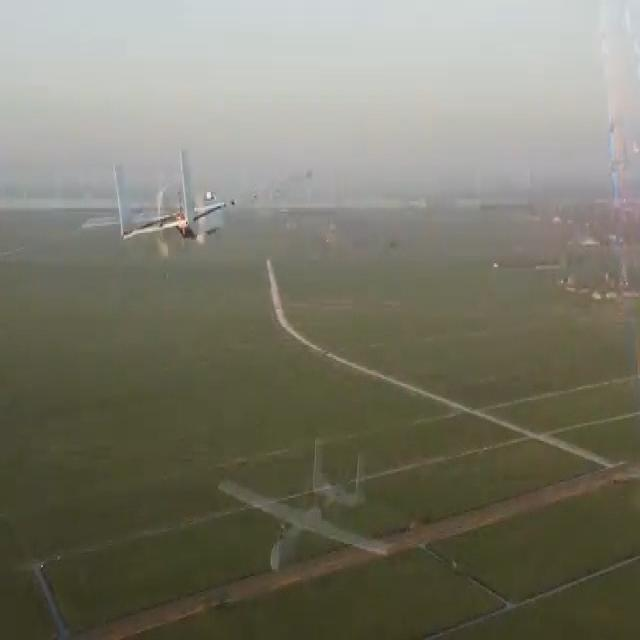iha: (95, 181, 238, 213)
